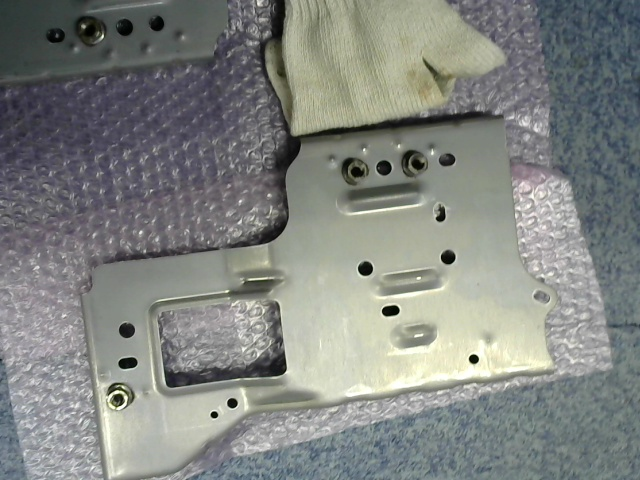dog: (75, 16, 106, 47), (104, 382, 134, 411), (340, 157, 369, 186), (400, 149, 427, 178)
